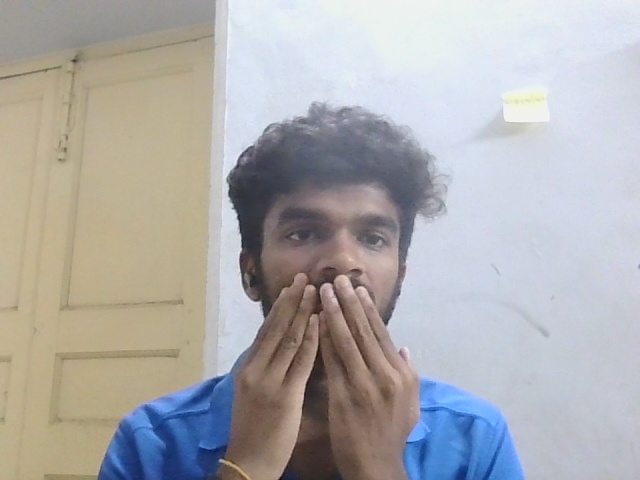Thanks: (218, 268, 445, 476)
